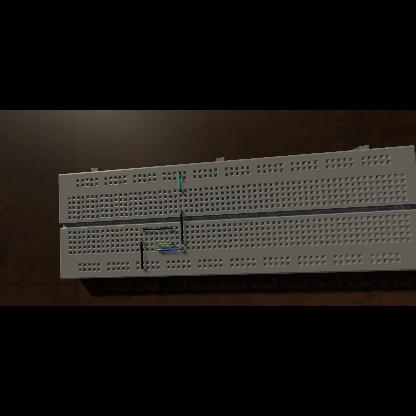breadboard: (58, 145, 416, 279)
wire: (180, 212, 184, 244), (140, 240, 144, 270), (158, 248, 184, 252), (141, 228, 173, 231), (178, 172, 182, 192), (156, 243, 173, 245)
